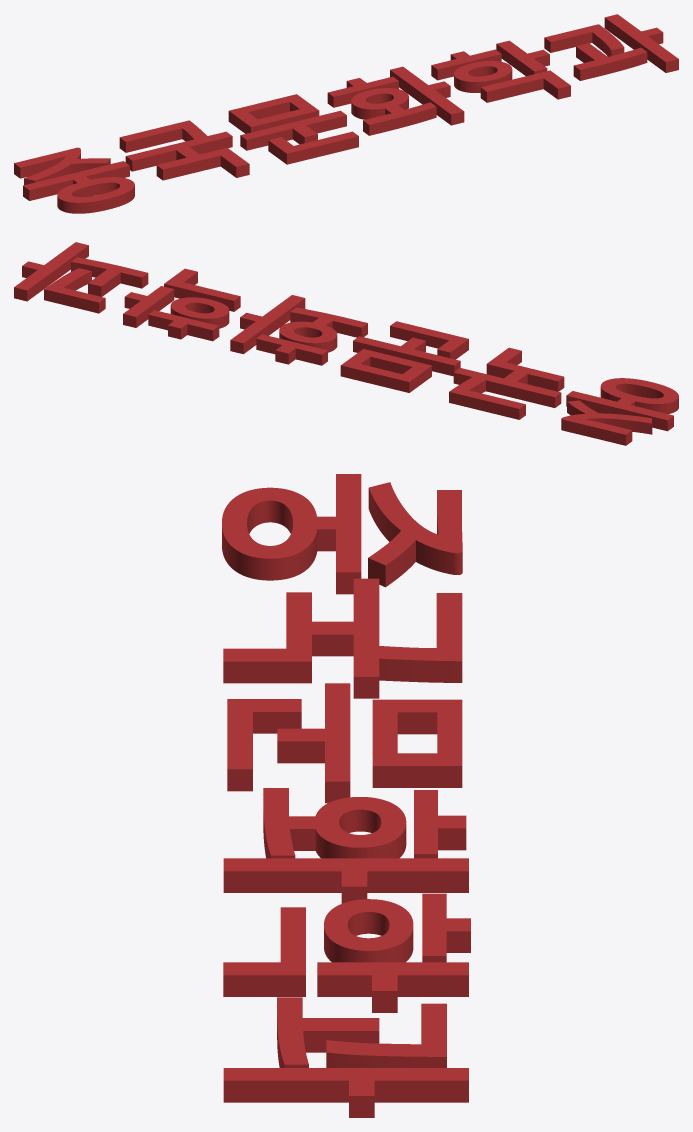
Rendered from false4.fbx.
3 renders of one model, top to bottom at view 1: azimuth 30°, elevation 25°; view 2: azimuth 150°, elevation 25°; view 3: azimuth 270°, elevation 25°, orthographic. The views are drawn at different scales.
Visible parts, largest first — view 1: Text; view 2: Text; view 3: Text.
Boxes of the visible parts, x1,y1,x2,y2 form: Text: (14, 14, 678, 213); Text: (14, 242, 678, 445); Text: (222, 474, 470, 1117).
Size of the model in its own units: 458 by 7.5 by 77.52.
